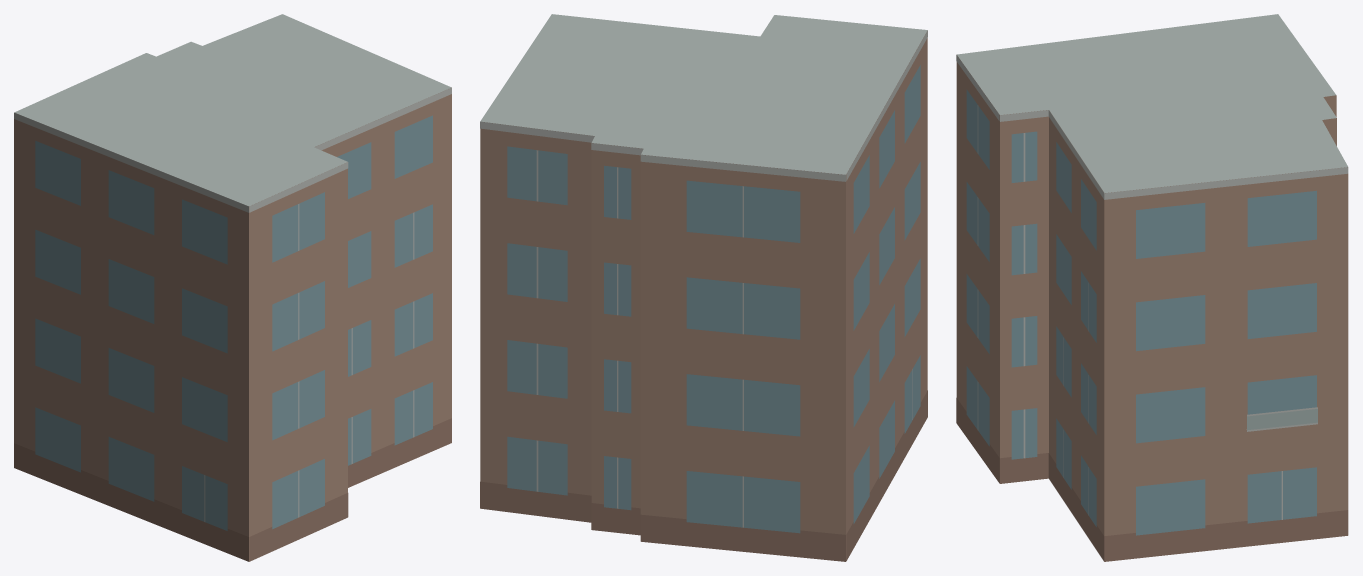
Rendered from survey-upis-32845645.glb.
The picture shows the model from 3 angles, left to right: view 1: azimuth 30°, elevation 25°; view 2: azimuth 150°, elevation 25°; view 3: azimuth 270°, elevation 25°; orthographic projection. The views are drawn at different scales.
Visible parts, largest first — view 1: survey-upis-32845645.tmp; view 2: survey-upis-32845645.tmp; view 3: survey-upis-32845645.tmp.
Boxes of the visible parts, <box> form: survey-upis-32845645.tmp: <box>14,14,451,561</box>; survey-upis-32845645.tmp: <box>480,14,927,561</box>; survey-upis-32845645.tmp: <box>956,14,1348,561</box>.
Bounding box in the file's own units: 13.92 × 13.35 × 12.87.
